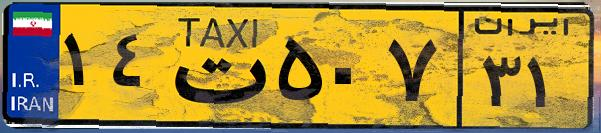0: (330, 28, 385, 110)
1: (57, 26, 110, 100), (525, 38, 570, 115)
3: (475, 38, 525, 113)
4: (110, 28, 158, 98)
5: (270, 28, 330, 110)
7: (385, 28, 445, 110)
ت: (158, 12, 270, 120)
